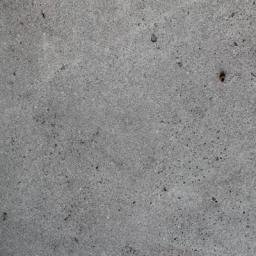FOD: (219, 69, 229, 85)
